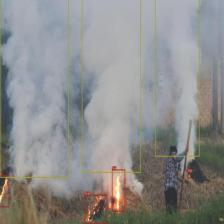fire: (84, 194, 107, 224), (112, 170, 125, 212), (0, 175, 9, 207), (188, 172, 190, 178)
smoke: (0, 0, 68, 177), (82, 0, 140, 173), (154, 0, 200, 156)
